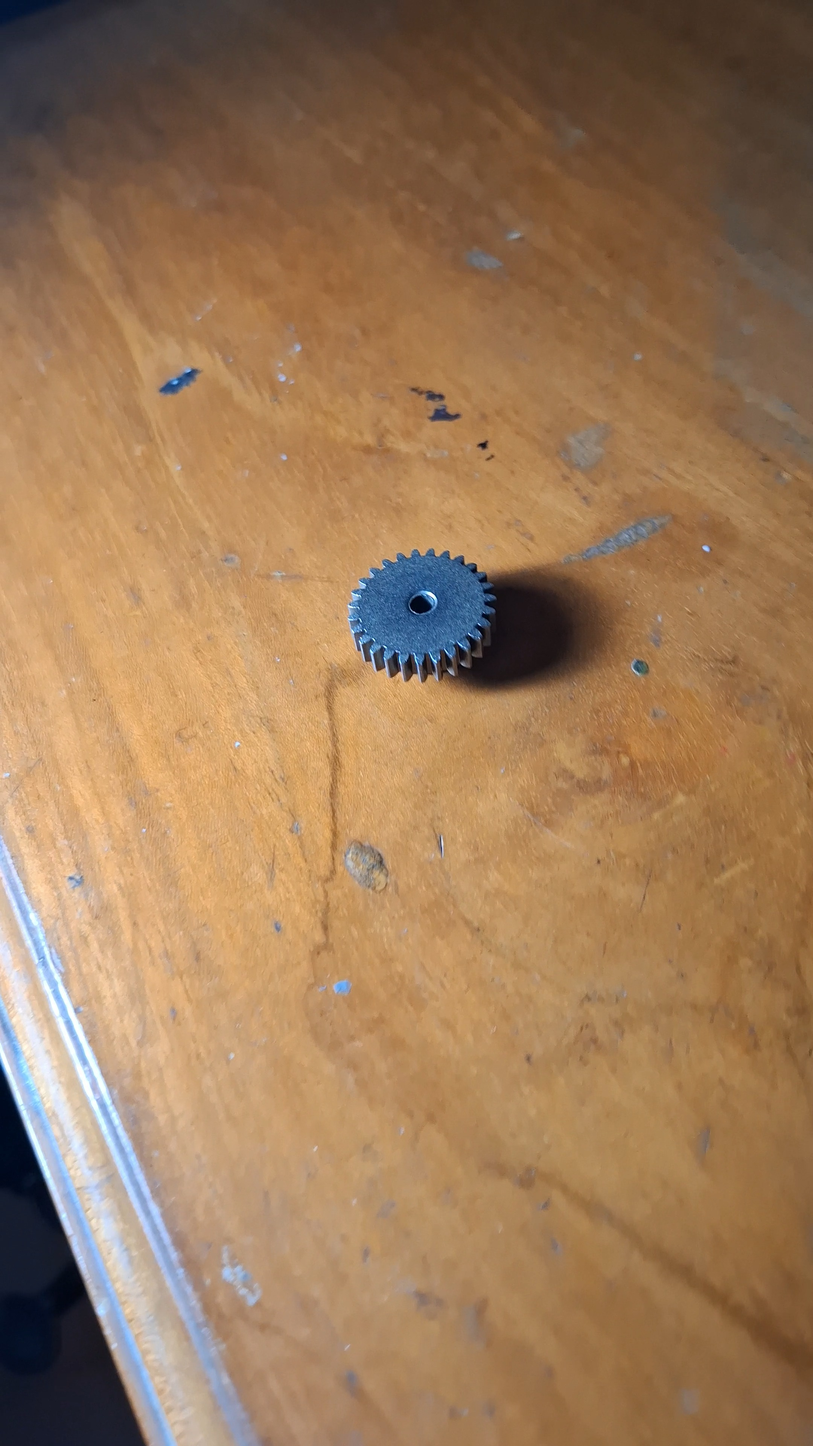spur gear: (349, 549, 494, 681)
